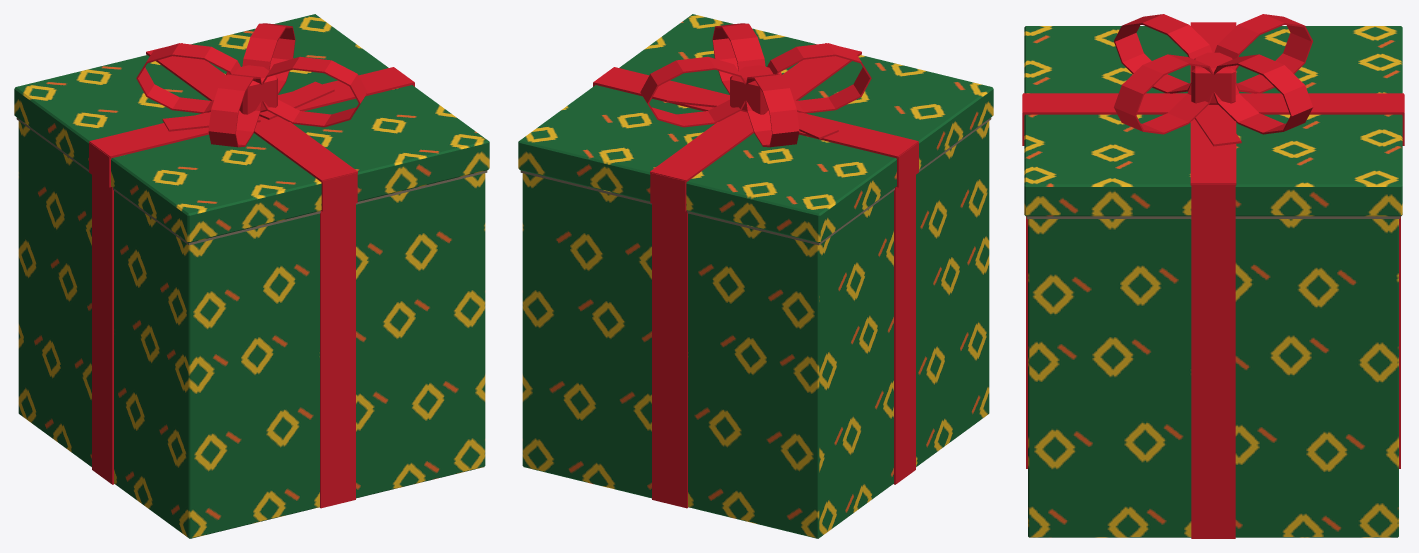
Rendered from party_gift_green.glb.
3 views of the same model, side by side, from view 1: azimuth 30°, elevation 25°; view 2: azimuth 150°, elevation 25°; view 3: azimuth 270°, elevation 25° (orthographic). The views are drawn at different scales.
Visible parts, largest first — view 1: party_gift_green; view 2: party_gift_green; view 3: party_gift_green.
Part boxes in pixels (left/top/right/bottom): party_gift_green: left=14, top=14, right=489, bottom=538; party_gift_green: left=518, top=14, right=993, bottom=538; party_gift_green: left=1022, top=14, right=1404, bottom=538.
Bounding box in the file's own units: 0.303 × 0.3634 × 0.303.
Materials: 3 (1 with a texture image).
